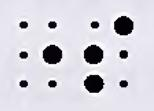dot_5: (19, 20, 63, 88)
subalit: (84, 15, 134, 93)
